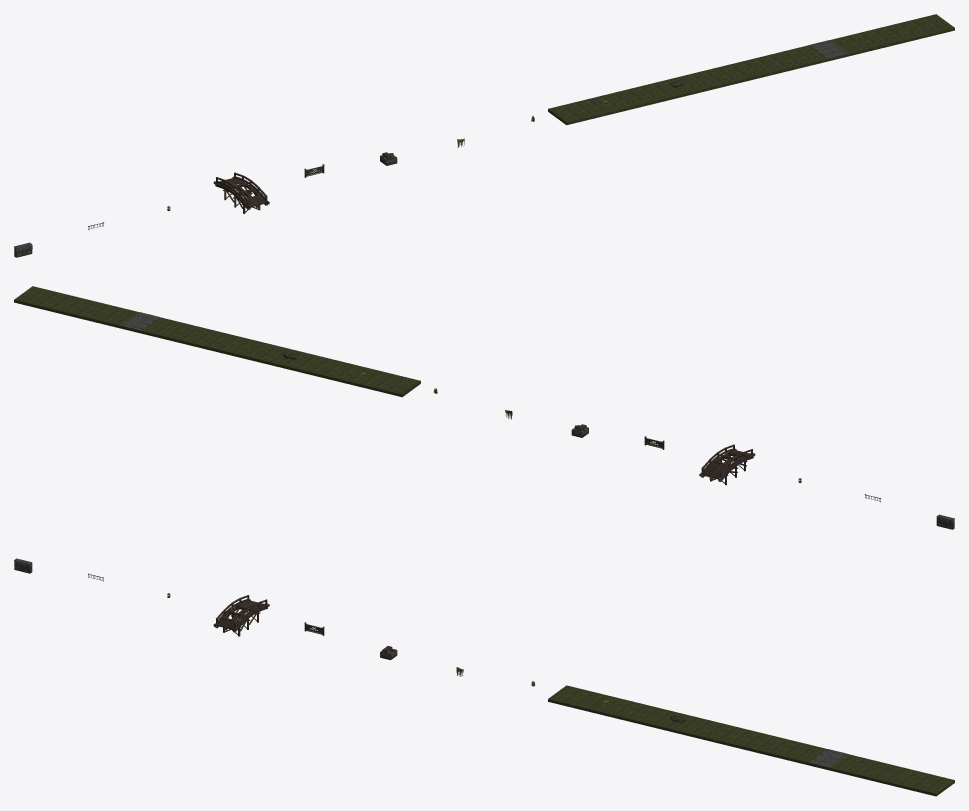
File: canal-kit.glb
3 renders of one model, top to bottom at view 1: azimuth 30°, elevation 25°; view 2: azimuth 150°, elevation 25°; view 3: azimuth 330°, elevation 25°, orthographic.
Visible parts, largest first — view 1: NearBank_Moss, UnfinishedBridge_Cedar; view 2: NearBank_Moss, UnfinishedBridge_Cedar; view 3: NearBank_Moss, UnfinishedBridge_Cedar.
Boxes of the visible parts, x1=… form: NearBank_Moss: x1=548, y1=14, x2=954, y2=125; UnfinishedBridge_Cedar: x1=215, y1=172, x2=267, y2=213; NearBank_Moss: x1=14, y1=286, x2=420, y2=397; UnfinishedBridge_Cedar: x1=701, y1=444, x2=753, y2=485; NearBank_Moss: x1=548, y1=685, x2=954, y2=796; UnfinishedBridge_Cedar: x1=215, y1=595, x2=267, y2=636.
Size of the model in its own units: 230 by 5.23 by 15.05.
12 materials, 8 textured.
